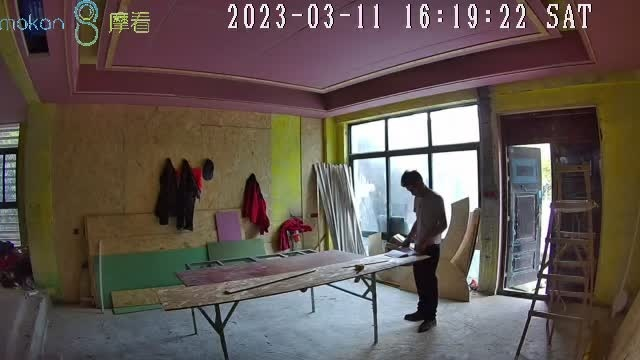people: (400, 170, 448, 332)
window: (346, 104, 480, 238)
